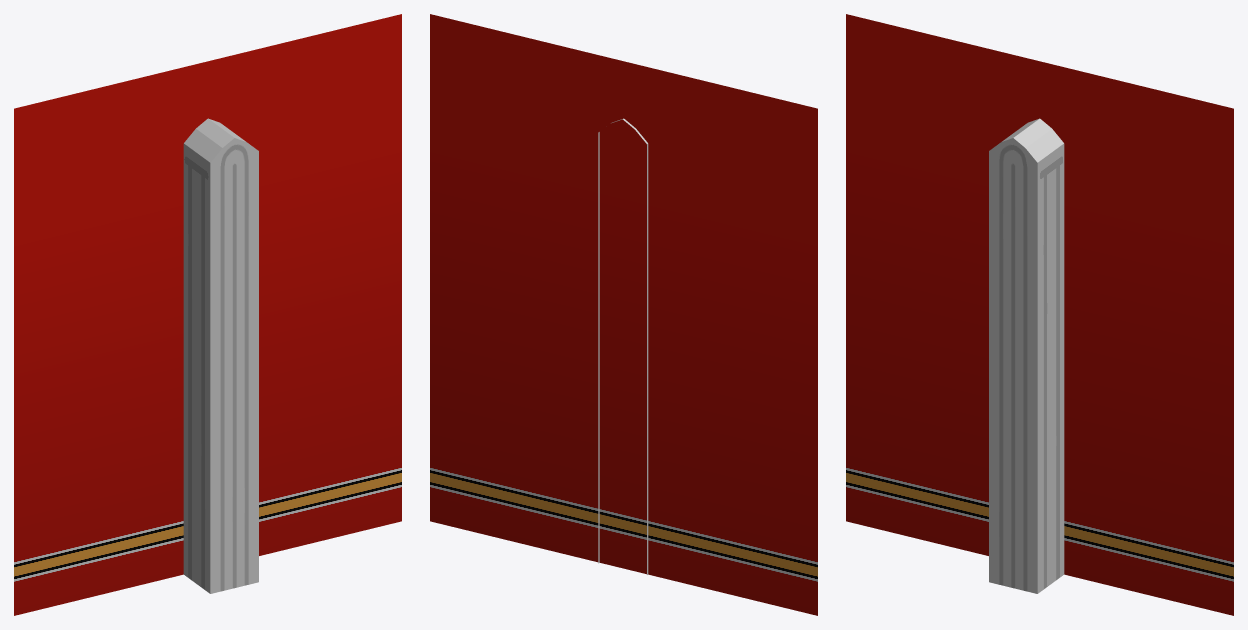
File: wall.fbx
The picture shows the model from 3 angles, left to right: view 1: azimuth 30°, elevation 25°; view 2: azimuth 150°, elevation 25°; view 3: azimuth 330°, elevation 25°; orthographic projection.
Visible parts, largest first — view 1: Plane; view 2: Plane; view 3: Plane.
Boxes of the visible parts, x1,y1,x2,y2 form: Plane: [14, 14, 401, 615]; Plane: [430, 14, 817, 615]; Plane: [846, 14, 1233, 615].
Size of the model in its own units: 1600 by 2000 by 200.
